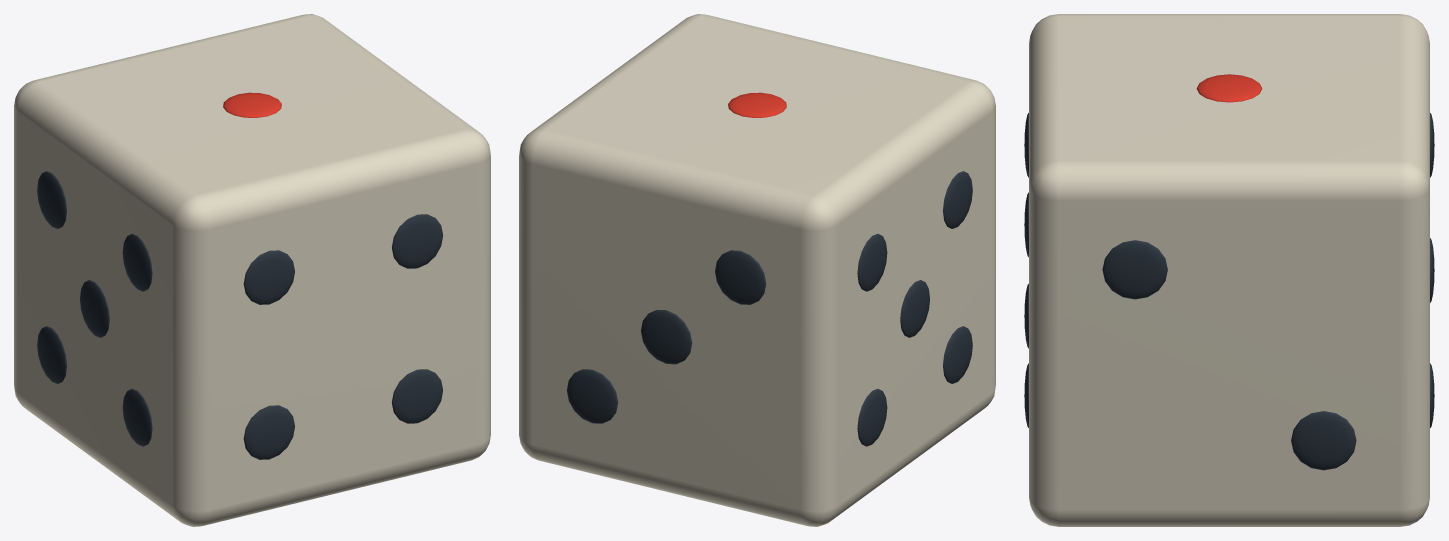
File: monopoly-die.glb
3 renders of one model, left to right at view 1: azimuth 30°, elevation 25°; view 2: azimuth 150°, elevation 25°; view 3: azimuth 270°, elevation 25°, orthographic. The views are drawn at different scales.
Visible parts, largest first — view 1: Die; view 2: Die; view 3: Die.
Boxes of the visible parts, x1,y1,x2,y2 form: Die: (14, 14, 490, 526); Die: (519, 14, 995, 526); Die: (1024, 14, 1434, 526).
Bounding box in the file's own units: 1.02 × 1.02 × 1.02.
